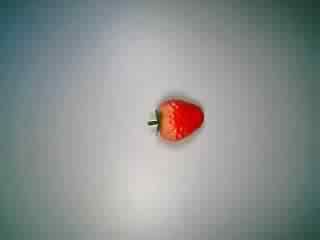strawberry: (136, 83, 209, 147)
